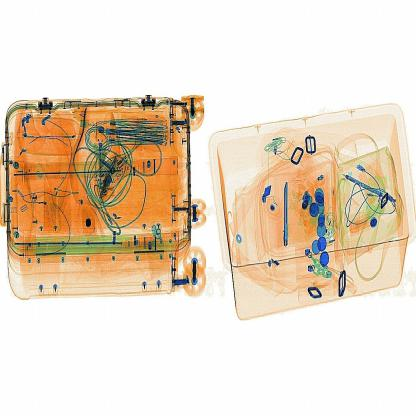pliers: (275, 174, 294, 252)
